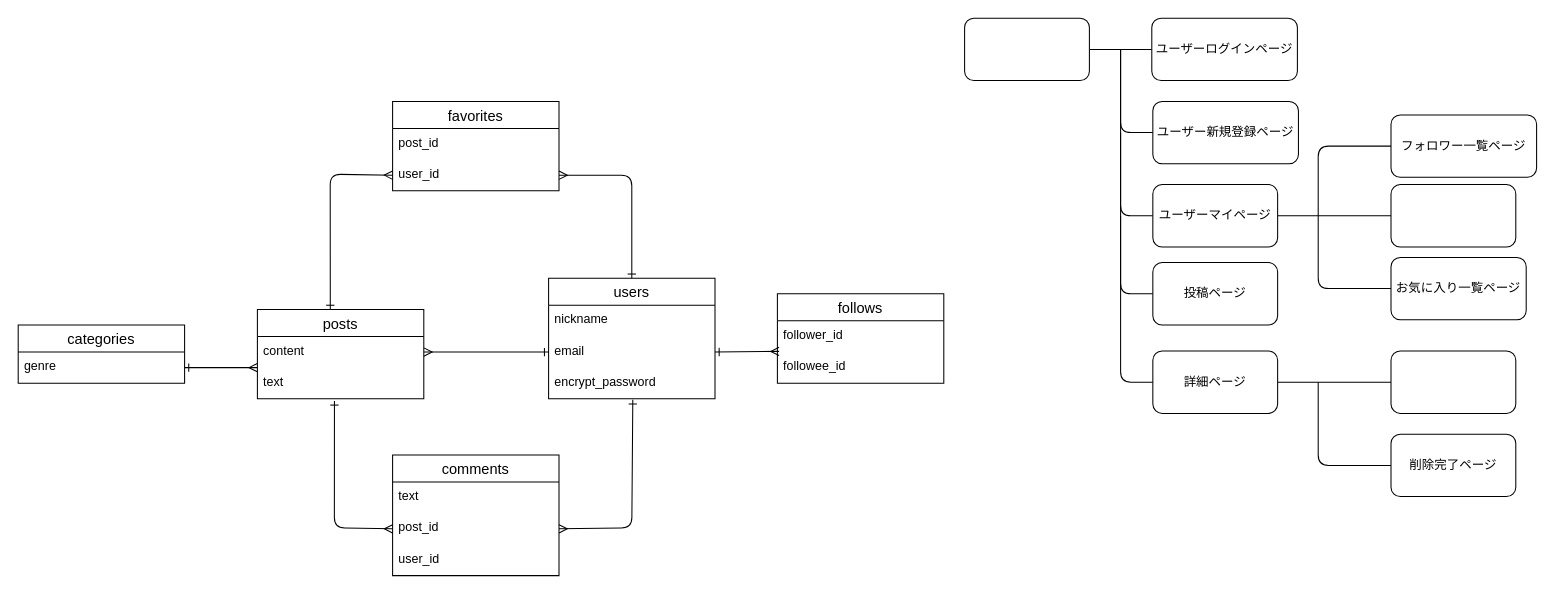
Some shapes in this 1555 by 597 pixel diagram are drawn without their labels. The shapes that lost their labels are listed below. From the top down, each one's centre as x and y in pixels, then its label:
[1026,49]: 一覧ページ
[1453,215]: フォロー一覧ページ
[1453,381]: 編集ページ
